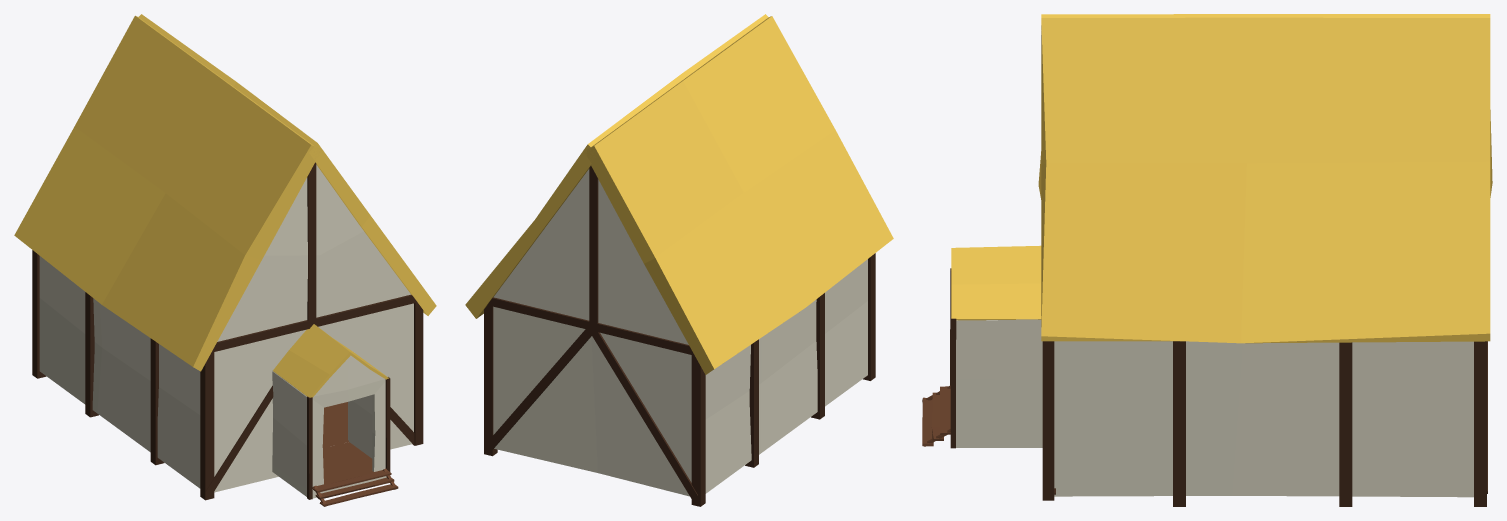
The model's file is chapel.glb.
3 views of the same model, side by side, from view 1: azimuth 30°, elevation 25°; view 2: azimuth 150°, elevation 25°; view 3: azimuth 270°, elevation 25° (orthographic). The views are drawn at different scales.
Visible parts, largest first — view 1: Mesh; view 2: Mesh; view 3: Mesh.
Boxes of the visible parts, bbox=[...] form: Mesh: bbox=[14, 14, 436, 506]; Mesh: bbox=[465, 14, 893, 506]; Mesh: bbox=[922, 14, 1492, 506].
Size of the model in its own units: 8.06 by 10.32 by 12.54.
